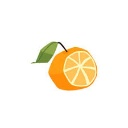orange: (43, 41, 99, 92)
